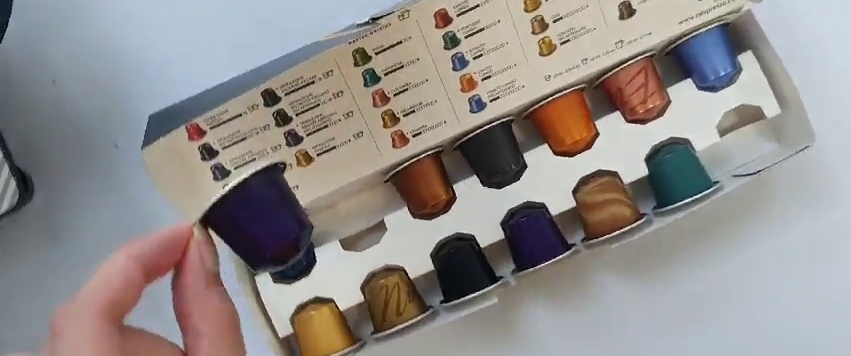capsule_2: (194, 160, 314, 275)
